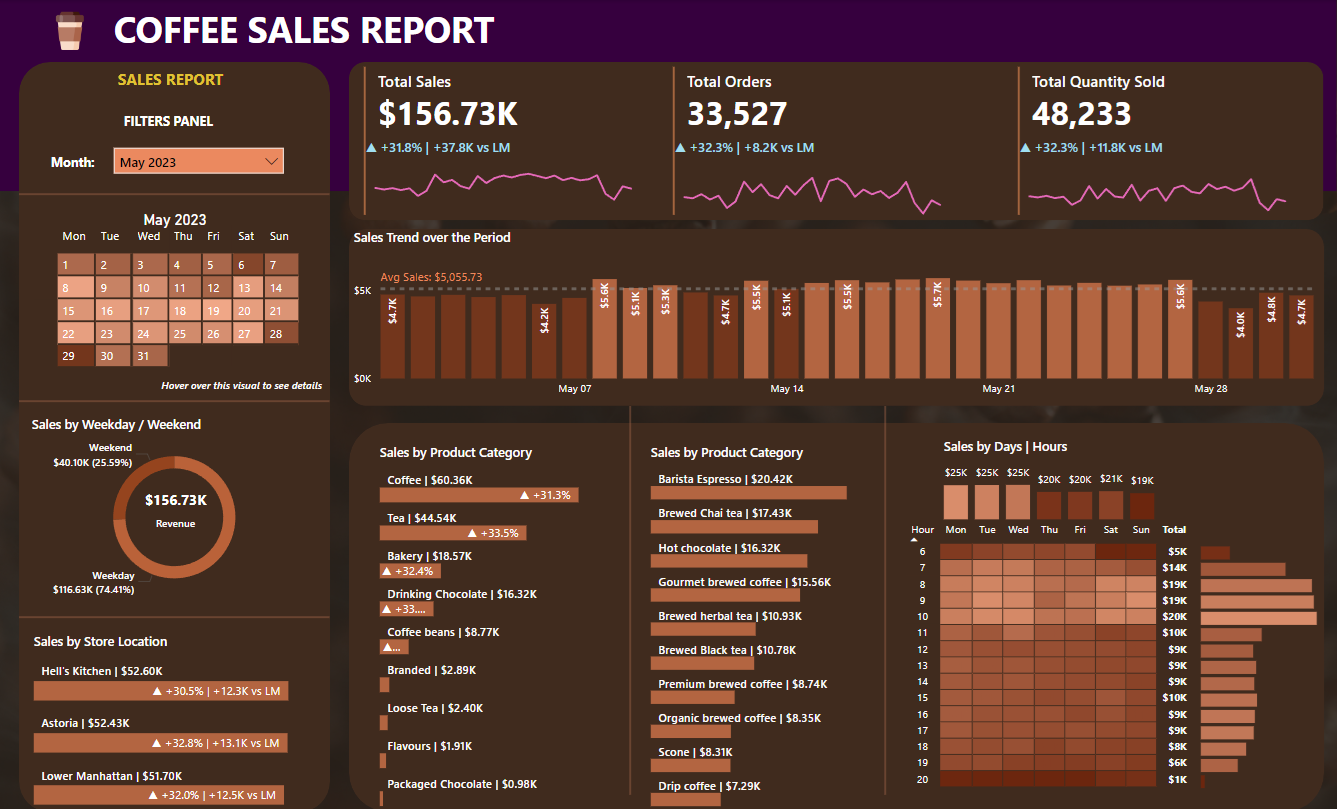

What the dashboard file says about the page in this screenshot:
{"tool":"powerbi","page":{"name":"Page 1","canvas":[1400,850],"ordinal":0},"visuals":[{"type":"shape","box":[0,0,1400,200],"z":0},{"type":"cardVisual","fields":{"Data":["Transactions.Total Orders"]},"box":[700.5,64.5,299.9,165.3],"z":0,"group":"g2"},{"type":"cardVisual","fields":{"Data":["Transactions.Total Sales"]},"box":[377.3,64.7,299.9,165.3],"z":0,"group":"g1"},{"type":"cardVisual","fields":{"Data":["Transactions.Total Quantity Sold"]},"box":[1062,64.7,299.9,165.3],"z":0,"group":"g3"},{"type":"shape","box":[21.1,64.4,325.6,785.6],"z":1000},{"type":"lineChart","fields":{"Category":["Date.Date.Variation.Date Hierarchy.Year","Date.Date.Variation.Date Hierarchy.Quarter","Date.Date.Variation.Date Hierarchy.Month","Date.Date.Variation.Date Hierarchy.Day"],"Y":["Transactions.Total Orders"]},"box":[702.6,145,297.8,84.8],"z":1000,"group":"g2"},{"type":"lineChart","fields":{"Y":["Transactions.Total Sales"],"Category":["Date.Date.Variation.Date Hierarchy.Year","Date.Date.Variation.Date Hierarchy.Quarter","Date.Date.Variation.Date Hierarchy.Month","Date.Date.Variation.Date Hierarchy.Day"]},"box":[379.4,145.2,297.8,84.8],"z":1000,"group":"g1"},{"type":"lineChart","fields":{"Category":["Date.Date.Variation.Date Hierarchy.Year","Date.Date.Variation.Date Hierarchy.Quarter","Date.Date.Variation.Date Hierarchy.Month","Date.Date.Variation.Date Hierarchy.Day"],"Y":["Transactions.Total Quantity Sold"]},"box":[1064.1,145.2,297.8,84.8],"z":1000,"group":"g3"},{"type":"shape","box":[366.7,64.4,1020,165.6],"z":2000},{"type":"textbox","box":[115.6,0,420,66.7],"z":3000},{"type":"slicer","fields":{"Values":["Date.Month Year"]},"box":[115.5,149.4,187.6,38.2],"z":4000},{"type":"group","id":"g1","title":"Group 1","box":[377.3,64.7,299.9,165.3],"z":5000},{"type":"group","id":"g2","title":"Group 1","box":[700.5,64.5,300.8,165.5],"z":6000},{"type":"group","id":"g3","title":"Group 1","box":[1062,64.7,301,165.3],"z":7000},{"type":"pivotTable","fields":{"Rows":["Date.Week Number"],"Columns":["Date.Day Name"],"Values":["Min(Date.Day Number)"]},"box":[31.8,230,305.2,189.7],"z":8000},{"type":"card","fields":{"Values":["Min(Date.Month Year)"]},"box":[139.9,213,88,33.9],"z":9000},{"type":"card","fields":{"Values":["Transactions.Foot Note"]},"box":[115.5,385.8,277.7,39.2],"z":10000},{"type":"shape","box":[21.2,403.8,325.4,31.8],"z":11000},{"type":"shape","box":[21.2,187.6,325.4,31.8],"z":12000},{"type":"donutChart","title":"Sales by Weekday / Weekend","fields":{"Category":["Date.Weekday / Weekend"],"Y":["Transactions.Total Sales"]},"box":[29.7,435.6,308.4,195],"z":13000},{"type":"card","fields":{"Values":["Transactions.Total Sales"]},"box":[129.3,504.5,110.2,57.2],"z":14000},{"type":"shape","box":[21.2,630.6,325.4,31.8],"z":15000},{"type":"clusteredBarChart","title":"Sales by Store Location","fields":{"Y":["Transactions.Placeholder","Transactions.Total Sales"],"Category":["Transactions.store_location"]},"box":[31.8,662.4,305.2,187.6],"z":16000},{"type":"shape","box":[366.7,239.5,1020.6,185.5],"z":17000},{"type":"columnChart","title":"Sales Trend over the Period","fields":{"Category":["Transactions.transaction_date"],"Y":["Transactions.Total Sales"]},"box":[366.7,239.5,1020.6,185.5],"z":18000},{"type":"shape","box":[366.7,443,1020.6,407],"z":19000},{"type":"clusteredBarChart","title":"Sales by Product Category","fields":{"Y":["Transactions.Placeholder","Transactions.Total Sales"],"Category":["Transactions.product_category"]},"box":[393.2,465.3,250.1,384.7],"z":20000},{"type":"shape","box":[643.3,425,33.9,407],"z":21000},{"type":"clusteredBarChart","title":"Sales by Product Category","fields":{"Y":["Transactions.Placeholder","Transactions.Total Sales"],"Category":["Transactions.product_type"]},"box":[677.2,465.3,250.1,384.7],"z":22000},{"type":"shape","box":[910.4,425,33.9,407],"z":23000},{"type":"pivotTable","fields":{"Rows":["Transactions.Hour"],"Columns":["Date.Day Name"],"Values":["Transactions.Total Sales"]},"box":[944.3,541.6,321.1,308.4],"z":24000},{"type":"clusteredBarChart","fields":{"Category":["Transactions.Hour"],"Y":["Transactions.Total Sales"]},"box":[1252.7,558.5,133.5,271.3],"z":25000},{"type":"clusteredColumnChart","title":"Sales by Days | Hours","fields":{"Y":["Transactions.Total Sales"],"Category":["Date.Day Name"]},"box":[983.5,458.9,231,91.1],"z":26000},{"type":"textbox","box":[48.8,155.8,71,31.8],"z":27000},{"type":"textbox","box":[119.8,66.8,129.3,33.9],"z":28000},{"type":"textbox","box":[126.1,113.4,115.5,31.8],"z":29000},{"type":"image","box":[48.8,7.4,50.9,49.8],"z":30000}]}

Visuals, with their boxes in screenshot pixels (x1, y1, x2, y2), scaled from the page's 1400x850 canvas onto the 1337x809 screenshot:
shape: [0, 0, 1336, 190]
cardVisual - Transactions.Total Orders: [669, 61, 955, 219]
cardVisual - Transactions.Total Sales: [360, 62, 647, 219]
cardVisual - Transactions.Total Quantity Sold: [1014, 62, 1301, 219]
shape: [20, 61, 331, 808]
lineChart - Date.Date.Variation.Date Hierarchy.Year x Date.Date.Variation.Date Hierarchy.Quarter: [671, 138, 955, 219]
lineChart - Transactions.Total Sales x Date.Date.Variation.Date Hierarchy.Year: [362, 138, 647, 219]
lineChart - Date.Date.Variation.Date Hierarchy.Year x Date.Date.Variation.Date Hierarchy.Quarter: [1016, 138, 1301, 219]
shape: [350, 61, 1324, 219]
textbox: [110, 0, 511, 63]
slicer - Date.Month Year: [110, 142, 289, 179]
"Group 1" group: [360, 62, 647, 219]
"Group 1" group: [669, 61, 956, 219]
"Group 1" group: [1014, 62, 1302, 219]
pivotTable - Date.Week Number x Date.Day Name: [30, 219, 322, 399]
card - Min(Date.Month Year): [134, 203, 218, 235]
card - Transactions.Foot Note: [110, 367, 376, 404]
shape: [20, 384, 331, 415]
shape: [20, 179, 331, 209]
"Sales by Weekday / Weekend" donutChart: [28, 415, 323, 600]
card - Transactions.Total Sales: [123, 480, 229, 535]
shape: [20, 600, 331, 630]
"Sales by Store Location" clusteredBarChart: [30, 630, 322, 808]
shape: [350, 228, 1325, 404]
"Sales Trend over the Period" columnChart: [350, 228, 1325, 404]
shape: [350, 422, 1325, 808]
"Sales by Product Category" clusteredBarChart: [376, 443, 614, 808]
shape: [614, 404, 647, 792]
"Sales by Product Category" clusteredBarChart: [647, 443, 886, 808]
shape: [869, 404, 902, 792]
pivotTable - Transactions.Hour x Date.Day Name: [902, 515, 1208, 808]
clusteredBarChart - Transactions.Hour x Transactions.Total Sales: [1196, 532, 1324, 790]
"Sales by Days | Hours" clusteredColumnChart: [939, 437, 1160, 523]
textbox: [47, 148, 114, 179]
textbox: [114, 64, 238, 96]
textbox: [120, 108, 231, 138]
image: [47, 7, 95, 54]
